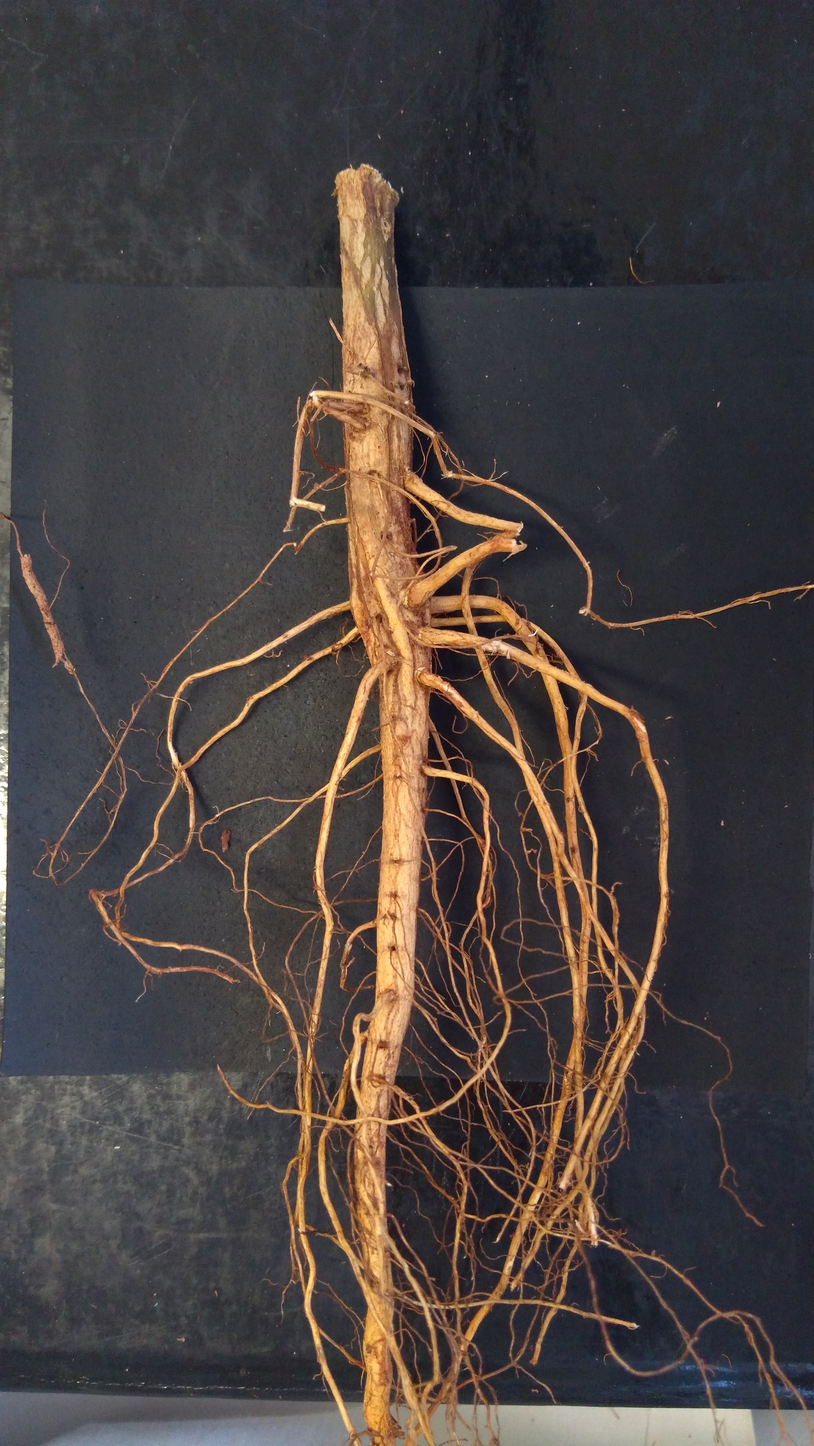nodule: (578, 606, 588, 614), (313, 482, 320, 490), (409, 499, 412, 504)
